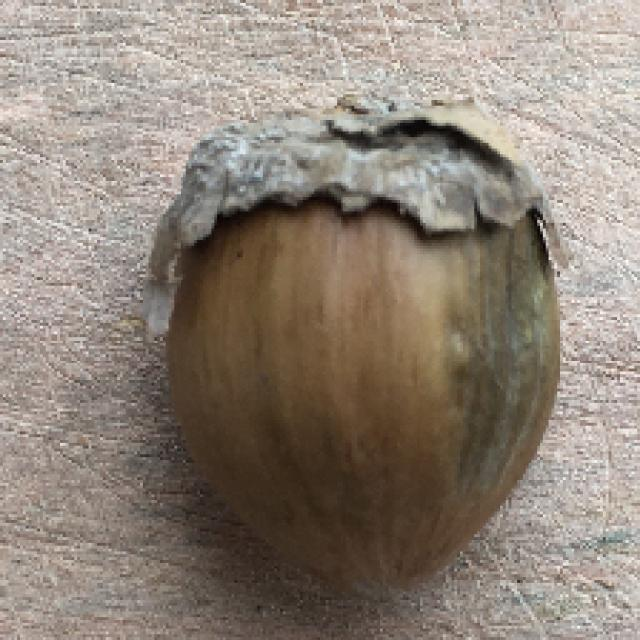damagedHazelnut: (154, 104, 560, 610)
